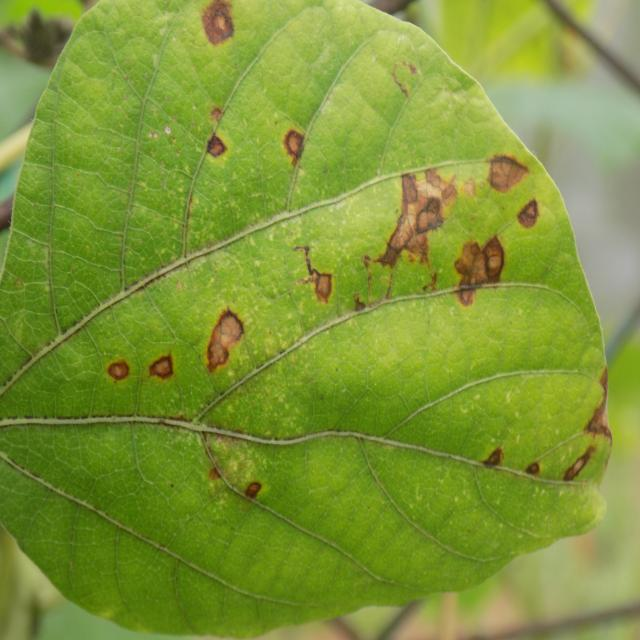Dolicos bean_cercospora leaf spot: (4, 0, 611, 637)
